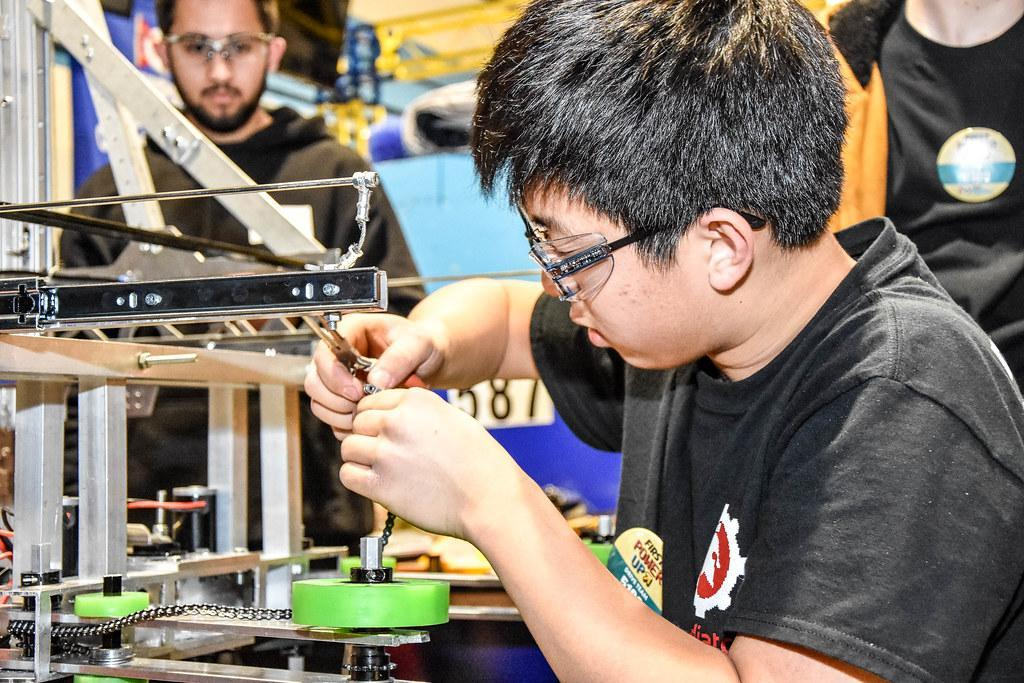robot: (0, 0, 460, 683)
